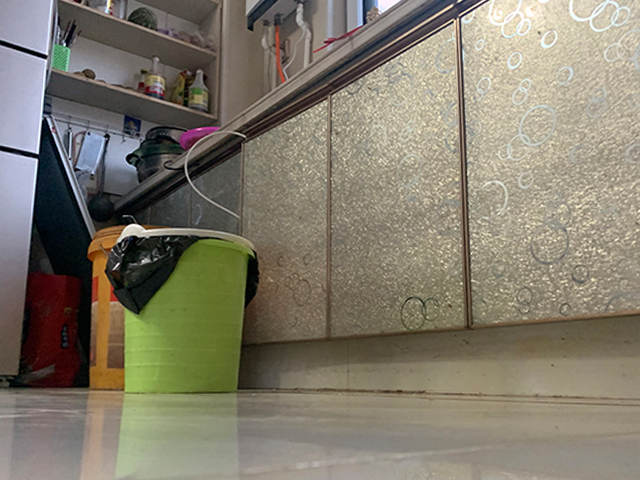cabinet: (242, 1, 640, 397)
trashcan: (117, 224, 258, 394)
